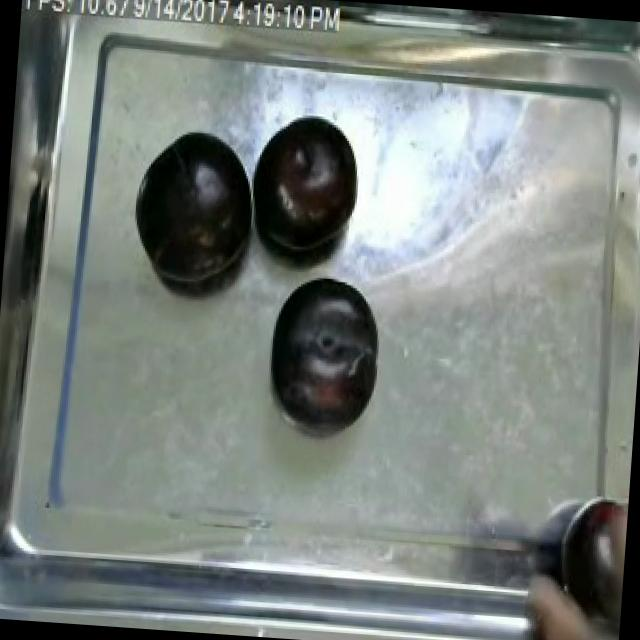Fruit: (126, 119, 261, 292), (259, 272, 387, 434), (245, 106, 366, 258), (550, 486, 628, 640)
